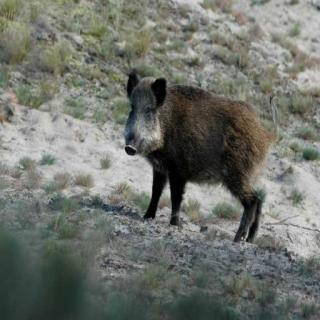Pig: (94, 56, 314, 249)
